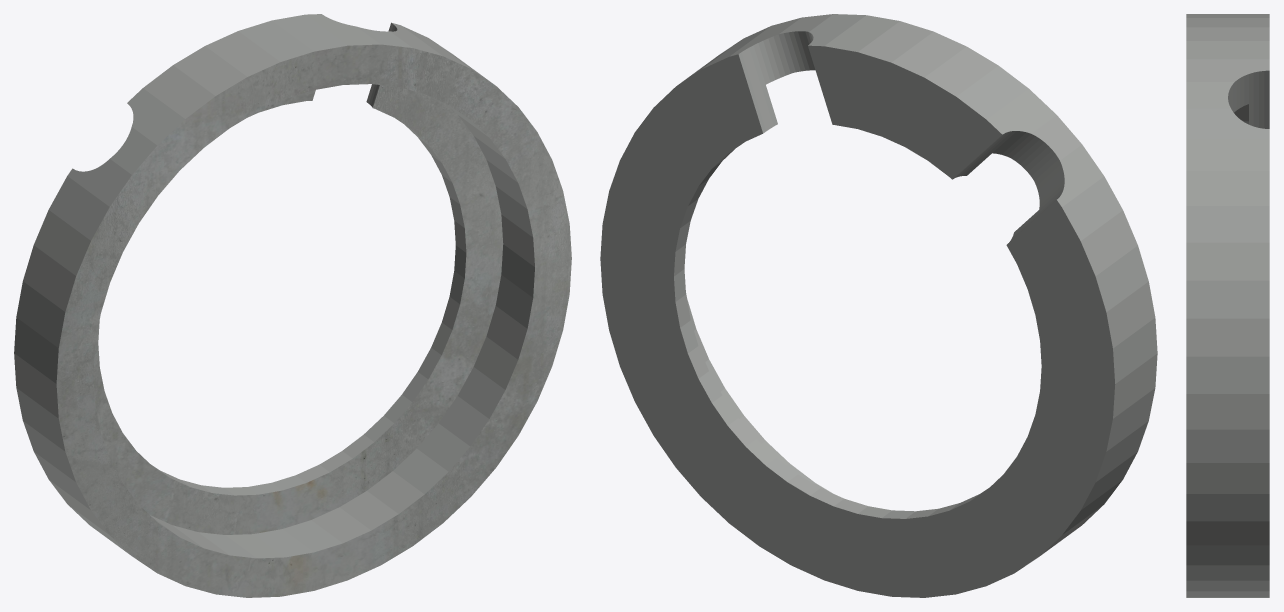
File: pool_019.obj
3 views of the same model, side by side, from view 1: azimuth 30°, elevation 25°; view 2: azimuth 150°, elevation 25°; view 3: azimuth 270°, elevation 25° (orthographic).
Bounding box in the file's own units: 14 × 14 × 2.
